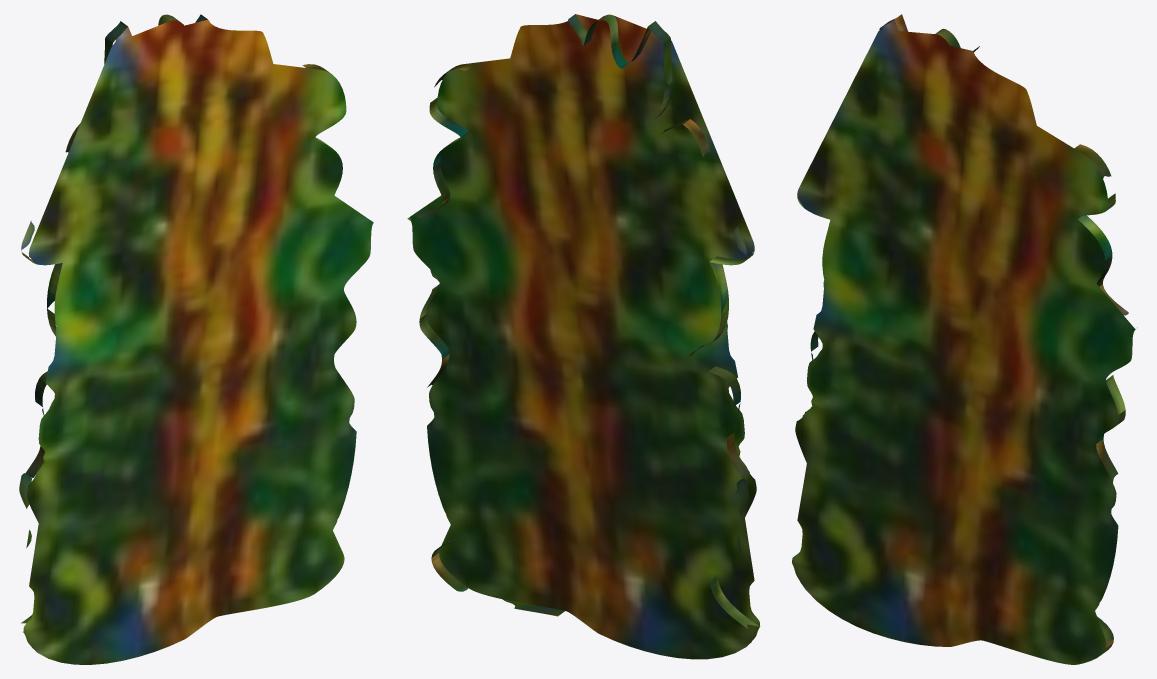
Rendered from Fogueira 1.fbx.
3 renders of one model, left to right at view 1: azimuth 30°, elevation 25°; view 2: azimuth 150°, elevation 25°; view 3: azimuth 330°, elevation 25°, orthographic. The views are drawn at different scales.
Parts seen in each view (by area): view 1: BézierCurve; view 2: BézierCurve; view 3: BézierCurve.
Boxes of the visible parts, left/top/right/bottom form: BézierCurve: left=19, top=14, right=373, bottom=664; BézierCurve: left=407, top=14, right=760, bottom=659; BézierCurve: left=792, top=14, right=1137, bottom=664.
Size of the model in its own units: 73.86 by 127 by 2.86.
